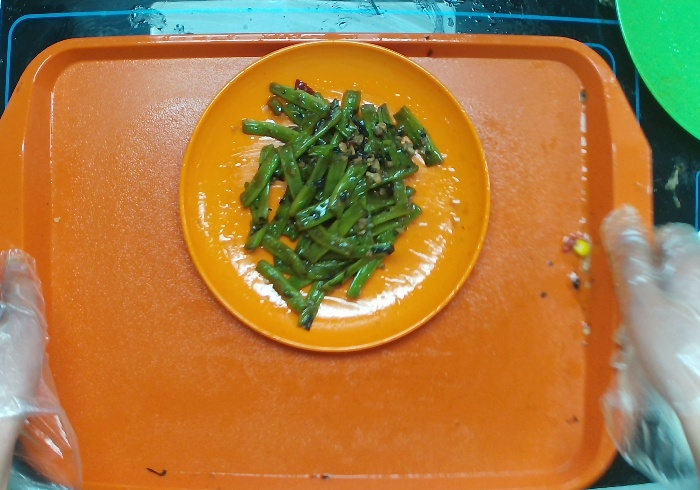HZYJPL-Ju_Huang_Yuan_Pan: (170, 34, 496, 362)
